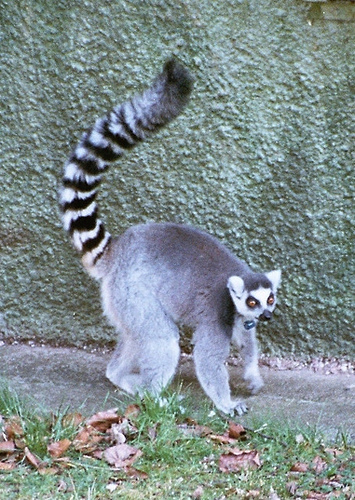cat: (45, 43, 280, 428)
